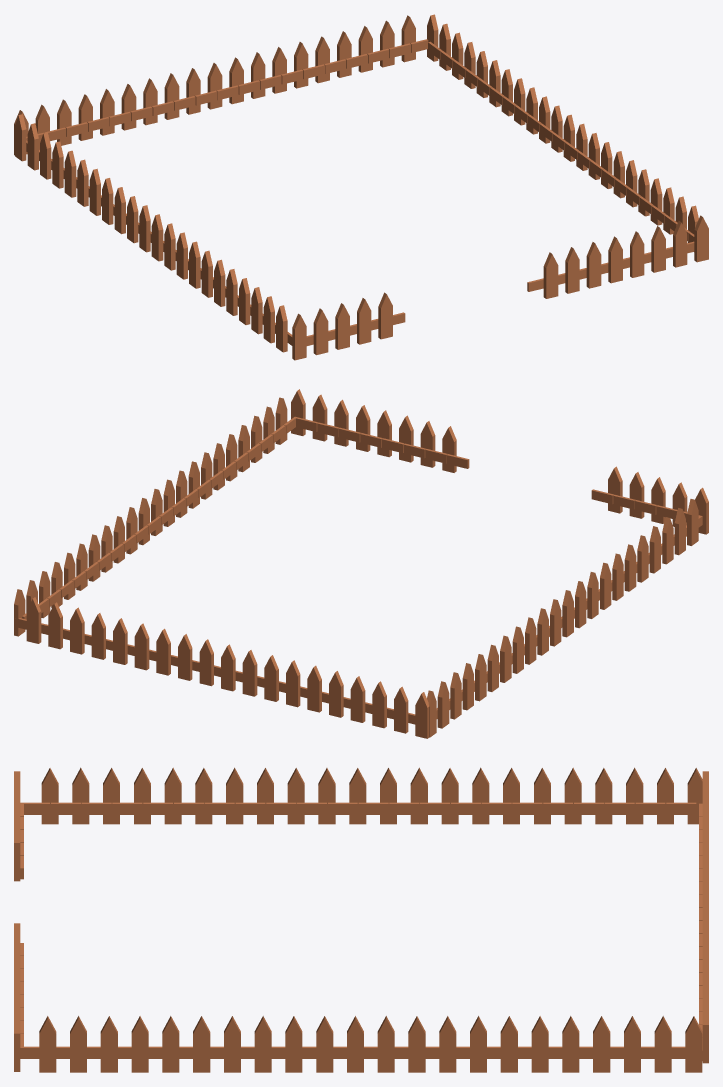
Rendered from Cerca01.fbx.
3 renders of one model, top to bottom at view 1: azimuth 30°, elevation 25°; view 2: azimuth 150°, elevation 25°; view 3: azimuth 270°, elevation 25°, orthographic. The views are drawn at different scales.
Parts seen in each view (by area): view 1: CERCA_01; view 2: CERCA_01; view 3: CERCA_01.
Boxes of the visible parts, box(x1,y1,x2,y2) form: CERCA_01: box(14, 14, 708, 360); CERCA_01: box(14, 389, 708, 738); CERCA_01: box(14, 767, 708, 1072).
Size of the model in its own units: 1873 by 189 by 2193.
